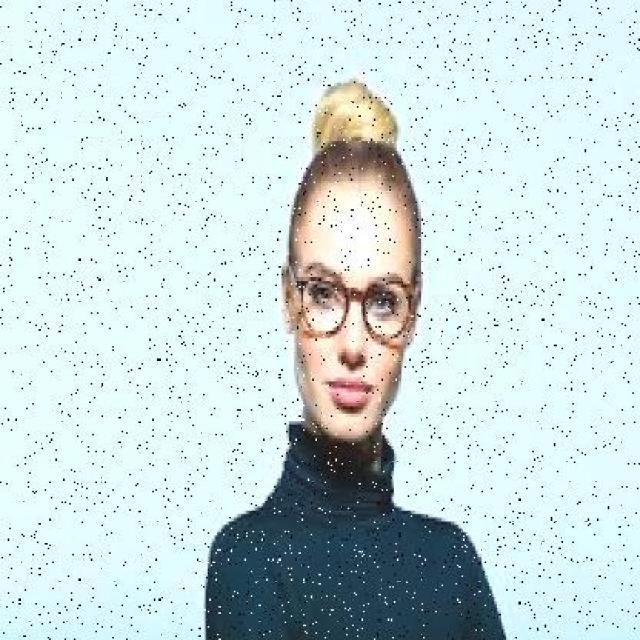glasses: (282, 249, 428, 351)
